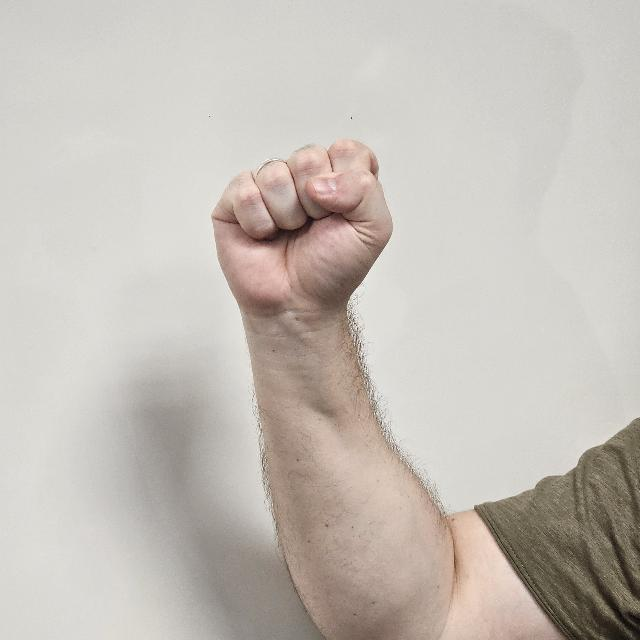Quadro: (202, 132, 400, 336)
